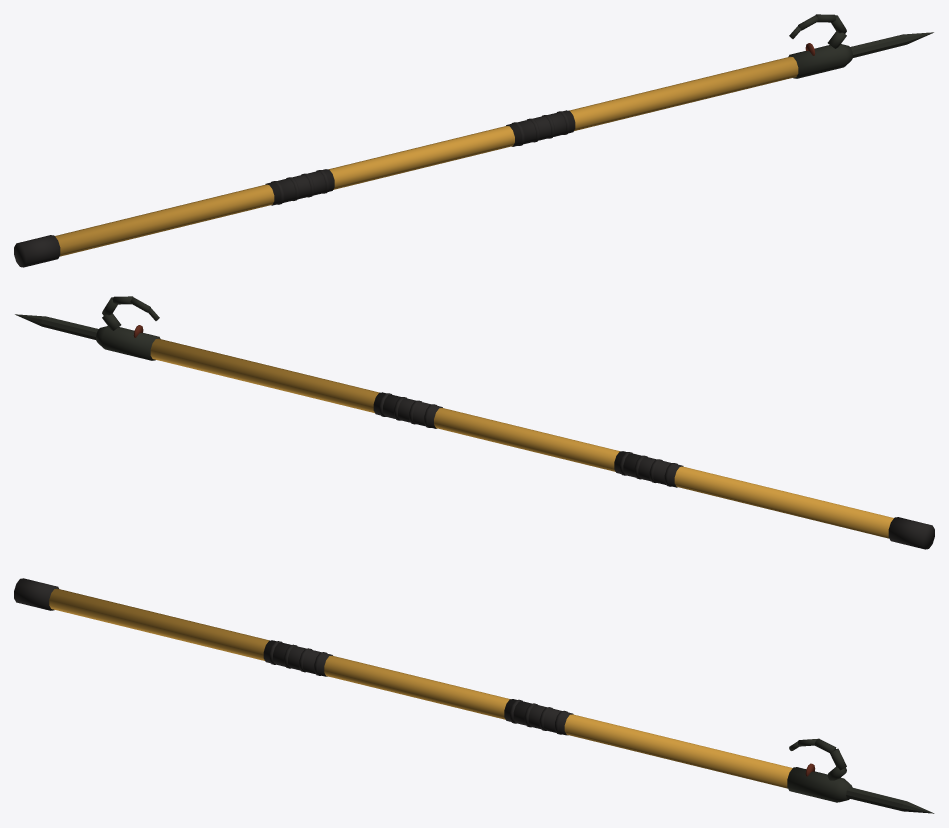
File: item_pole_hook.glb
3 views of the same model, one above another, from view 1: azimuth 30°, elevation 25°; view 2: azimuth 150°, elevation 25°; view 3: azimuth 330°, elevation 25° (orthographic).
Parts seen in each view (by area): view 1: pole, ferrule, grip, grip_left, butt, point; view 2: pole, ferrule, grip, grip_left, butt, point; view 3: pole, ferrule, grip, grip_left, butt, point.
Boxes of the visible parts, x1,y1,x2,y2 form: pole: (55, 56, 798, 256); ferrule: (788, 44, 852, 78); grip: (265, 169, 334, 205); grip_left: (506, 110, 575, 146); butt: (14, 235, 60, 267); point: (850, 32, 933, 57); pole: (150, 338, 893, 538); ferrule: (96, 326, 160, 360); grip: (614, 451, 683, 487); grip_left: (373, 392, 442, 428); butt: (888, 517, 934, 549); point: (15, 314, 98, 339); pole: (49, 588, 792, 788); ferrule: (787, 767, 852, 802); grip: (263, 640, 332, 676); grip_left: (504, 699, 573, 735); butt: (14, 578, 58, 610); point: (846, 787, 934, 813).
Bounding box in the file's own units: 2.13 × 0.1289 × 0.0488.
